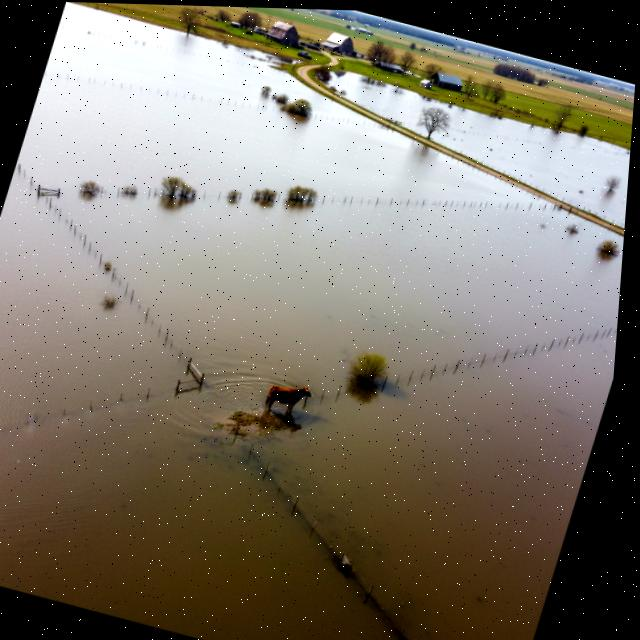cow: (256, 375, 320, 423)
